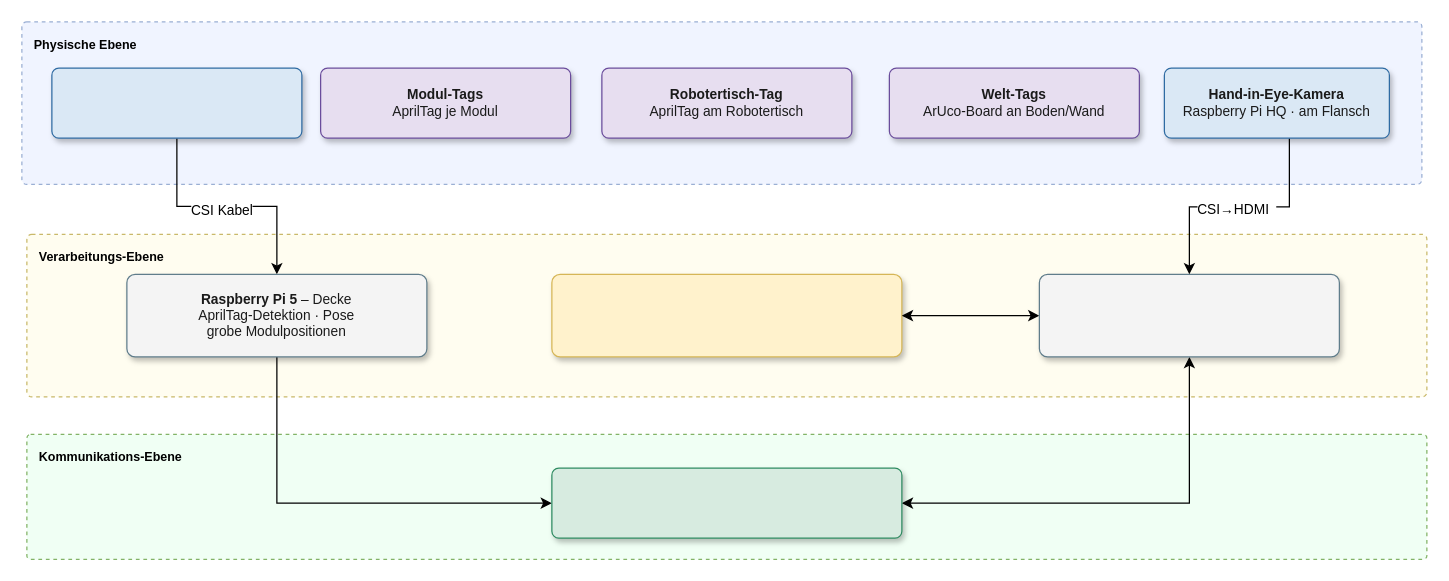
Image size: 1449x581. Some labels were removed from this diagram. The shapes that lost their labels are listed below. From the top down, each one's centre as x and y in pixels, then its label:
At (177,104): "Deckenkamera Raspberry Pi HQ · Weitwinkel".
At (727,317): "Roboter Roboterarm + Steuerung Vorwärtskinematik (Basis → Flansch)".
At (1190,317): "Raspberry Pi 5 – Hand AprilTag-Detektion · Pose feine Modulpositionen".
At (727,504): "OPC UA Server Modulpositionen im Weltsystem".
